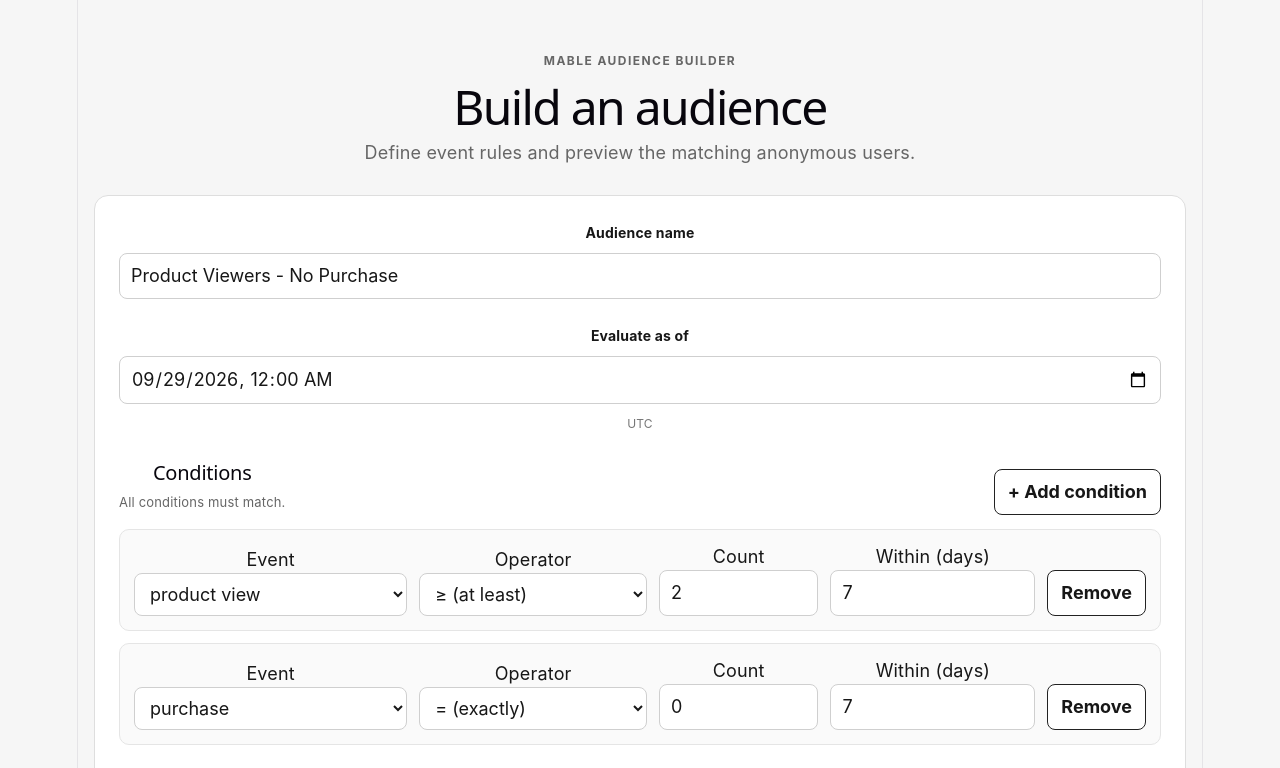
Test: AudienceBuilder › remove condition removes a condition while keeping at least one
# Remove first condition
Step 1. Click the 1st button "Remove" → (1097, 593), box [1047, 570, 1146, 616]
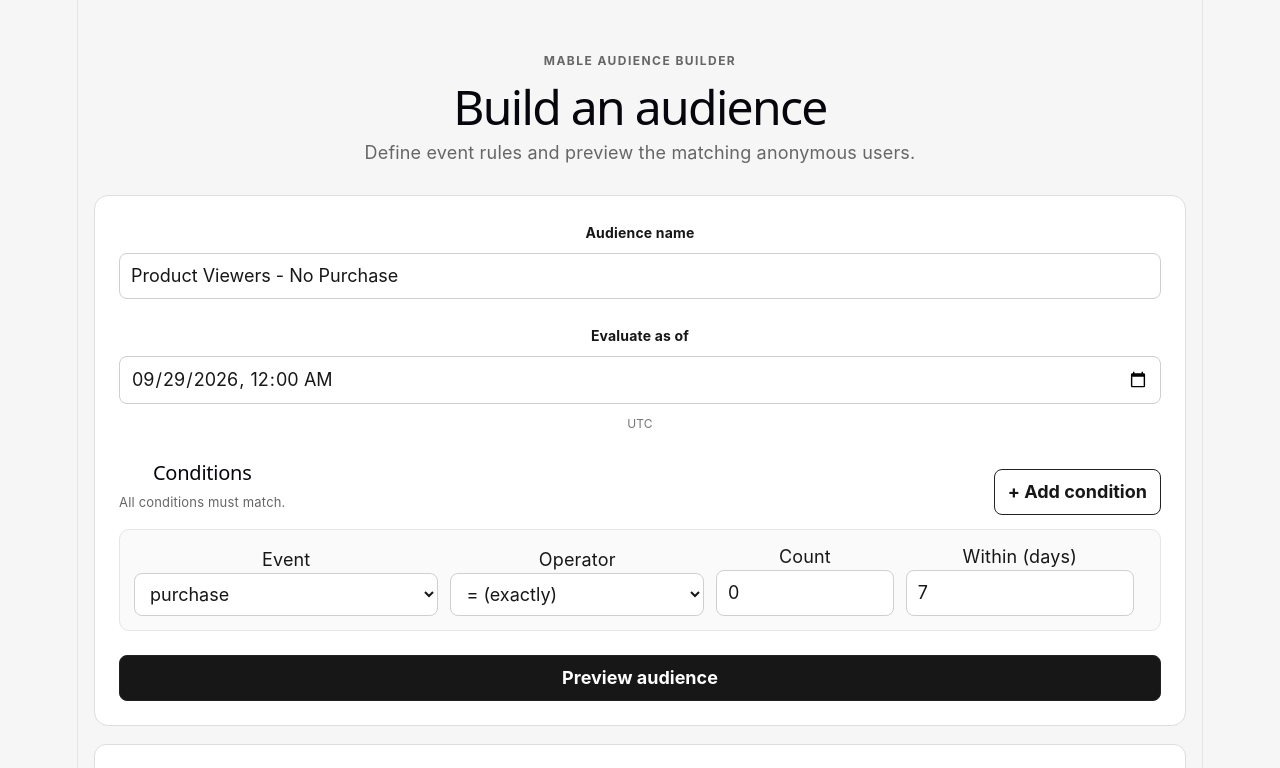
Expected: the number of dropdowns labelled "Event" is 1, [134, 573, 438, 616]
Expected: no buttons "Remove" are shown
